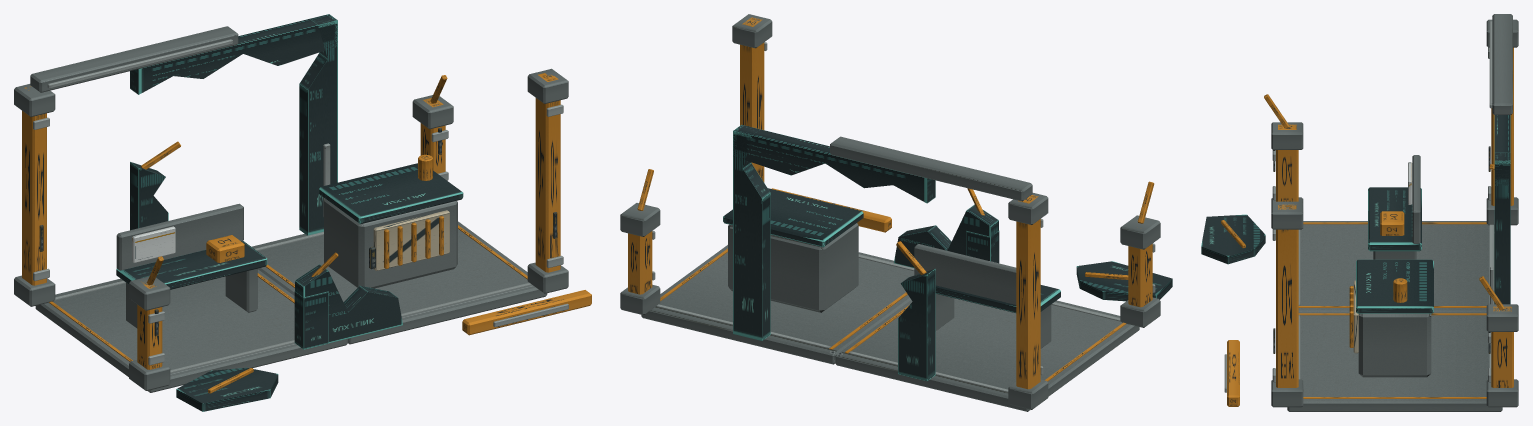
File: WreckWorkshop_LOD1.obj
3 renders of one model, left to right at view 1: azimuth 30°, elevation 25°; view 2: azimuth 150°, elevation 25°; view 3: azimuth 270°, elevation 25°, orthographic. The views are drawn at different scales.
Parts seen in each view (by area): view 1: 000_floor_4m.021, 009_generator.001, 007_wall_breach_4m.001, 001_floor_4m.013, 008_workbench.001, 003_column_4m.001, 004_column_4m.001, 012_wall_fragment.001, 006_beam_4m.001, 002_column_broken.001, 011_debris_panel.001, 005_column_broken.001 (+1 smaller); view 2: 007_wall_breach_4m.001, 000_floor_4m.021, 001_floor_4m.013, 009_generator.001, 004_column_4m.001, 008_workbench.001, 006_beam_4m.001, 002_column_broken.001, 005_column_broken.001, 012_wall_fragment.001, 003_column_4m.001, 011_debris_panel.001 (+1 smaller); view 3: 001_floor_4m.013, 000_floor_4m.021, 009_generator.001, 003_column_4m.001, 008_workbench.001, 007_wall_breach_4m.001, 005_column_broken.001, 011_debris_panel.001, 002_column_broken.001, 006_beam_4m.001, 004_column_4m.001, 010_debris_beam.001.
Boxes of the visible parts, x1=… form: 000_floor_4m.021: x1=35, y1=269, x2=347, y2=392; 009_generator.001: x1=319, y1=154, x2=463, y2=288; 007_wall_breach_4m.001: x1=130, y1=14, x2=337, y2=235; 001_floor_4m.013: x1=252, y1=221, x2=547, y2=344; 008_workbench.001: x1=116, y1=203, x2=267, y2=328; 003_column_4m.001: x1=527, y1=68, x2=568, y2=293; 004_column_4m.001: x1=14, y1=84, x2=55, y2=306; 012_wall_fragment.001: x1=294, y1=252, x2=402, y2=349; 006_beam_4m.001: x1=30, y1=26, x2=238, y2=92; 002_column_broken.001: x1=129, y1=256, x2=170, y2=390; 011_debris_panel.001: x1=176, y1=367, x2=278, y2=411; 005_column_broken.001: x1=412, y1=75, x2=453, y2=180; 007_wall_breach_4m.001: x1=733, y1=124, x2=935, y2=381; 000_floor_4m.021: x1=835, y1=298, x2=1139, y2=411; 001_floor_4m.013: x1=641, y1=245, x2=914, y2=364; 009_generator.001: x1=723, y1=188, x2=863, y2=312; 004_column_4m.001: x1=1008, y1=193, x2=1048, y2=409; 008_workbench.001: x1=914, y1=244, x2=1060, y2=348; 006_beam_4m.001: x1=830, y1=136, x2=1032, y2=201; 002_column_broken.001: x1=1120, y1=181, x2=1160, y2=327; 005_column_broken.001: x1=620, y1=169, x2=660, y2=315; 012_wall_fragment.001: x1=894, y1=188, x2=999, y2=267; 003_column_4m.001: x1=732, y1=14, x2=772, y2=182; 011_debris_panel.001: x1=1076, y1=261, x2=1172, y2=301; 001_floor_4m.013: x1=1287, y1=312, x2=1502, y2=411; 000_floor_4m.021: x1=1298, y1=221, x2=1494, y2=311; 009_generator.001: x1=1349, y1=259, x2=1433, y2=377; 003_column_4m.001: x1=1271, y1=201, x2=1303, y2=407; 008_workbench.001: x1=1368, y1=155, x2=1421, y2=259; 007_wall_breach_4m.001: x1=1489, y1=115, x2=1510, y2=304; 005_column_broken.001: x1=1479, y1=276, x2=1518, y2=407; 011_debris_panel.001: x1=1201, y1=214, x2=1265, y2=264; 002_column_broken.001: x1=1264, y1=94, x2=1303, y2=202; 006_beam_4m.001: x1=1489, y1=14, x2=1512, y2=114; 004_column_4m.001: x1=1486, y1=19, x2=1518, y2=225; 010_debris_beam.001: x1=1224, y1=340, x2=1239, y2=406.
Bounding box in the file's own units: 8.52 × 4.46 × 5.9.
Materials: 1 (1 with a texture image).
